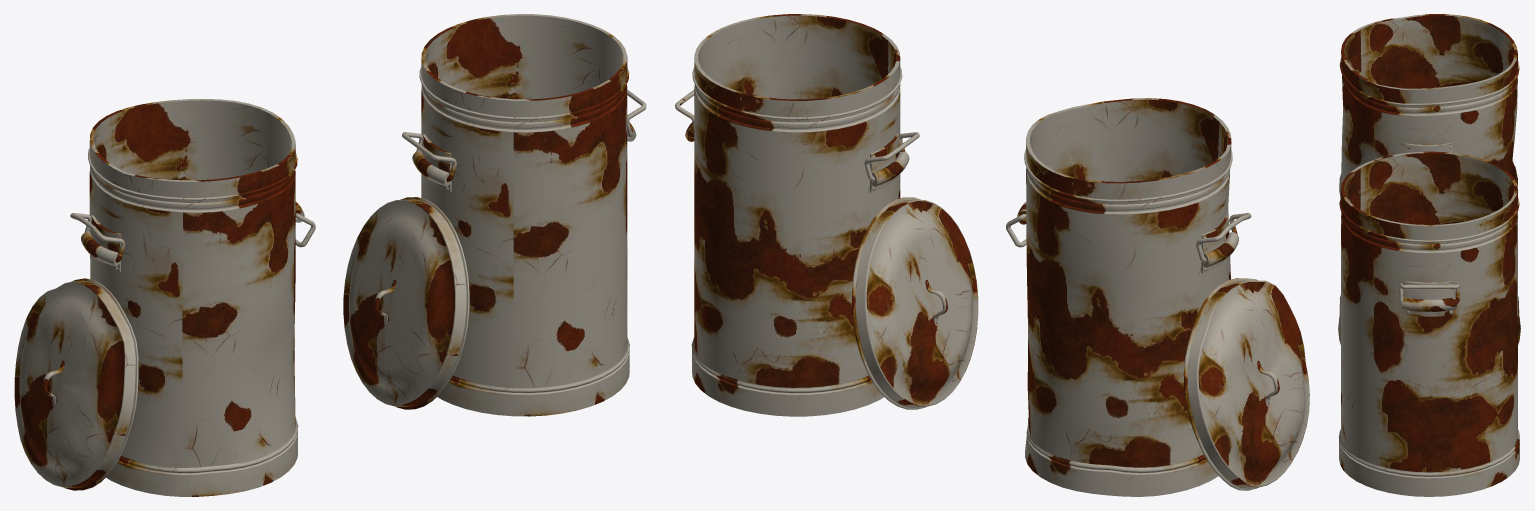
The model's file is Trash_Can.obj.
The picture shows the model from 3 angles, left to right: view 1: azimuth 30°, elevation 25°; view 2: azimuth 150°, elevation 25°; view 3: azimuth 270°, elevation 25°; orthographic projection. The views are drawn at different scales.
Parts seen in each view (by area): view 1: metal_trash_can, metal_trash_can_rust, metal_trash_can_lid, metal_trash_can_rust_lid; view 2: metal_trash_can, metal_trash_can_rust, metal_trash_can_lid, metal_trash_can_rust_lid; view 3: metal_trash_can, metal_trash_can_rust, metal_trash_can_handle_right.
Part boxes in pixels (x1=…): metal_trash_can: x1=412, y1=14, x2=636, y2=416; metal_trash_can_rust: x1=81, y1=99, x2=304, y2=496; metal_trash_can_lid: x1=343, y1=197, x2=469, y2=409; metal_trash_can_rust_lid: x1=14, y1=278, x2=138, y2=490; metal_trash_can: x1=685, y1=14, x2=909, y2=416; metal_trash_can_rust: x1=1017, y1=98, x2=1238, y2=496; metal_trash_can_lid: x1=852, y1=197, x2=978, y2=409; metal_trash_can_rust_lid: x1=1183, y1=278, x2=1309, y2=490; metal_trash_can: x1=1338, y1=151, x2=1519, y2=496; metal_trash_can_rust: x1=1339, y1=14, x2=1519, y2=316; metal_trash_can_handle_right: x1=1399, y1=283, x2=1459, y2=303.
Size of the model in its own units: 1.78 by 0.9062 by 0.5563.
Materials: 2 (2 with a texture image).
